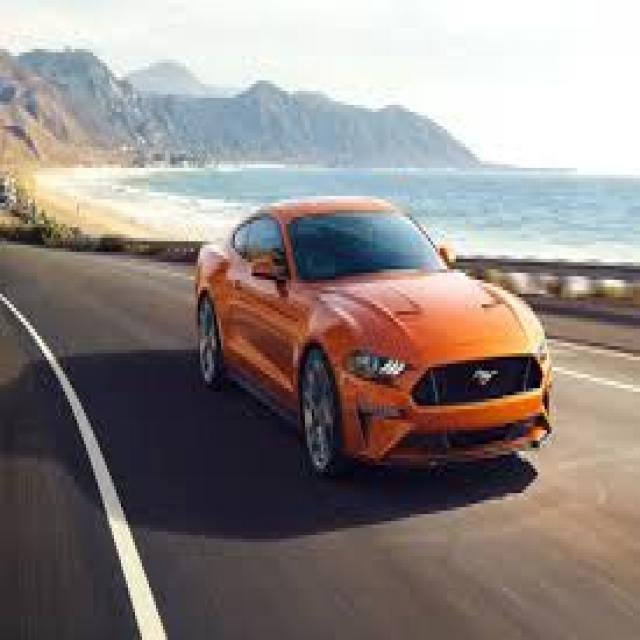Car: (194, 198, 558, 486)
